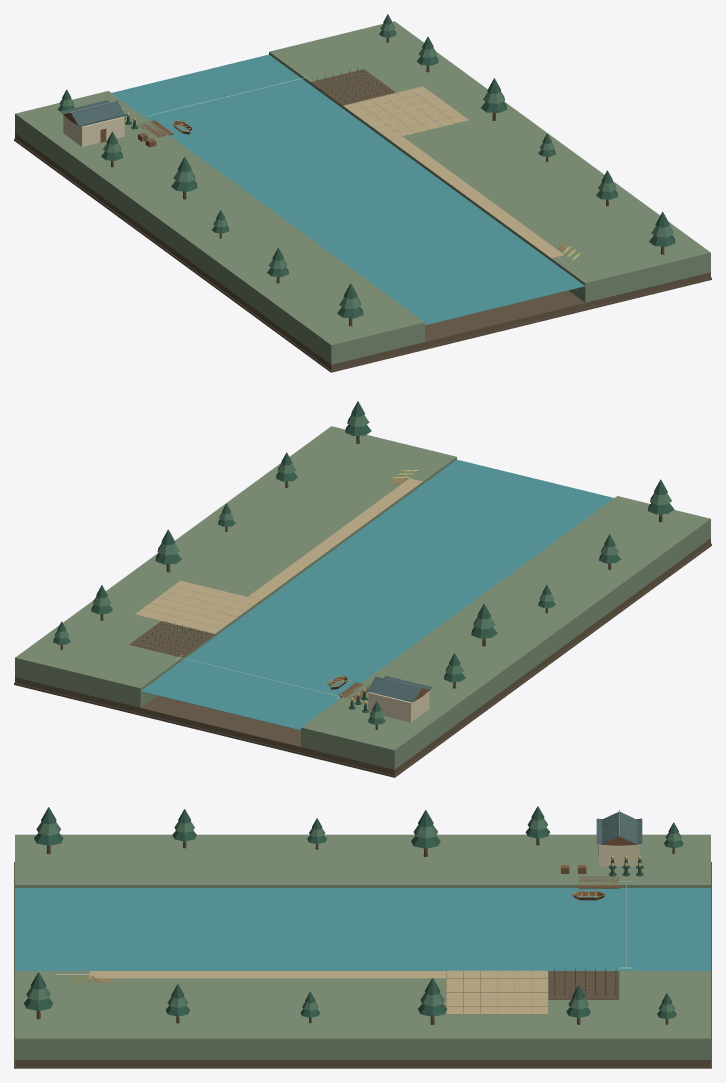
File: reed-bay.obj
The picture shows the model from 3 angles, top to bottom: view 1: azimuth 30°, elevation 25°; view 2: azimuth 150°, elevation 25°; view 3: azimuth 270°, elevation 25°; orthographic projection. The views are drawn at different scales.
Visible parts, largest first — view 1: ground, water, vegetation, architecture, roofs, details; view 2: ground, water, vegetation, architecture, roofs; view 3: ground, water, vegetation, roofs, details, grid, architecture.
Boxes of the visible parts, x1,y1,x2,y2 form: ground: (14,21,711,372); water: (112,54,584,325); vegetation: (57,14,675,326); architecture: (63,115,124,146); roofs: (60,100,127,126); details: (100,120,572,267); ground: (14,426,711,777); water: (141,459,613,730); vegetation: (53,401,674,729); architecture: (368,691,429,722); roofs: (365,676,432,702); ground: (14,834,711,1068); water: (15,888,710,970); vegetation: (24,806,683,1024); roofs: (596,810,642,845); details: (55,844,619,974); grid: (446,970,548,1013); architecture: (599,844,639,866).
Bounding box in the file's own units: 142 × 24.7 × 206.
